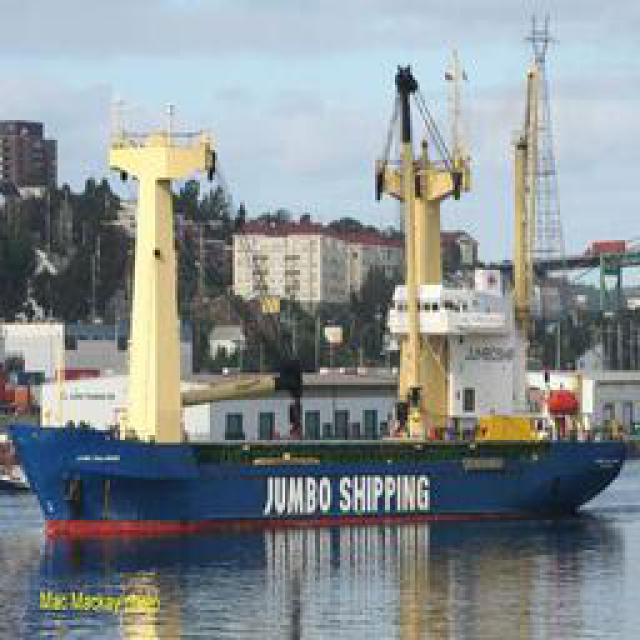Ship: (18, 429, 616, 522)
